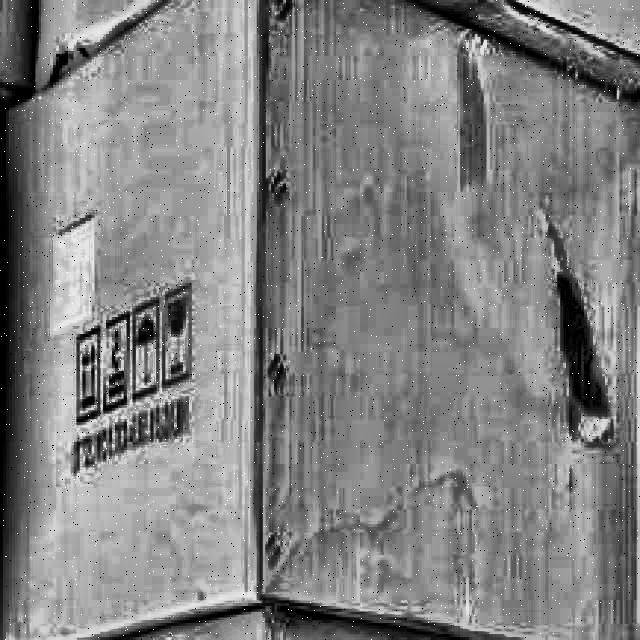box: (2, 1, 640, 639)
hole: (542, 243, 618, 431)
